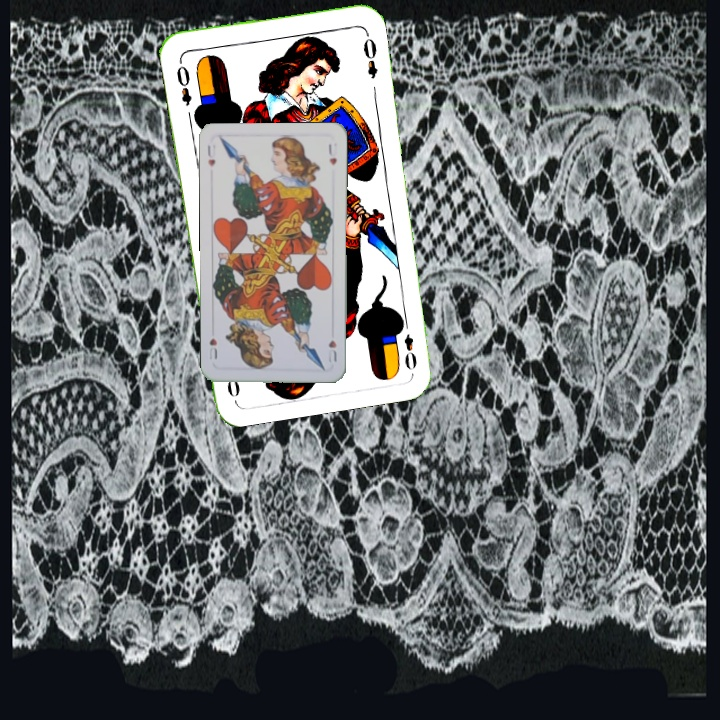EO: (172, 62, 194, 109), (399, 330, 420, 373)
HU: (324, 336, 339, 365), (203, 141, 218, 169)
